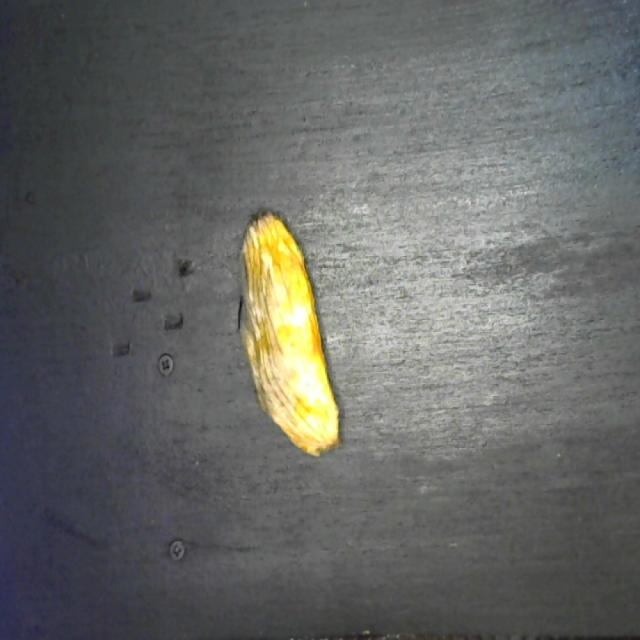biodegradable: (228, 192, 348, 466)
